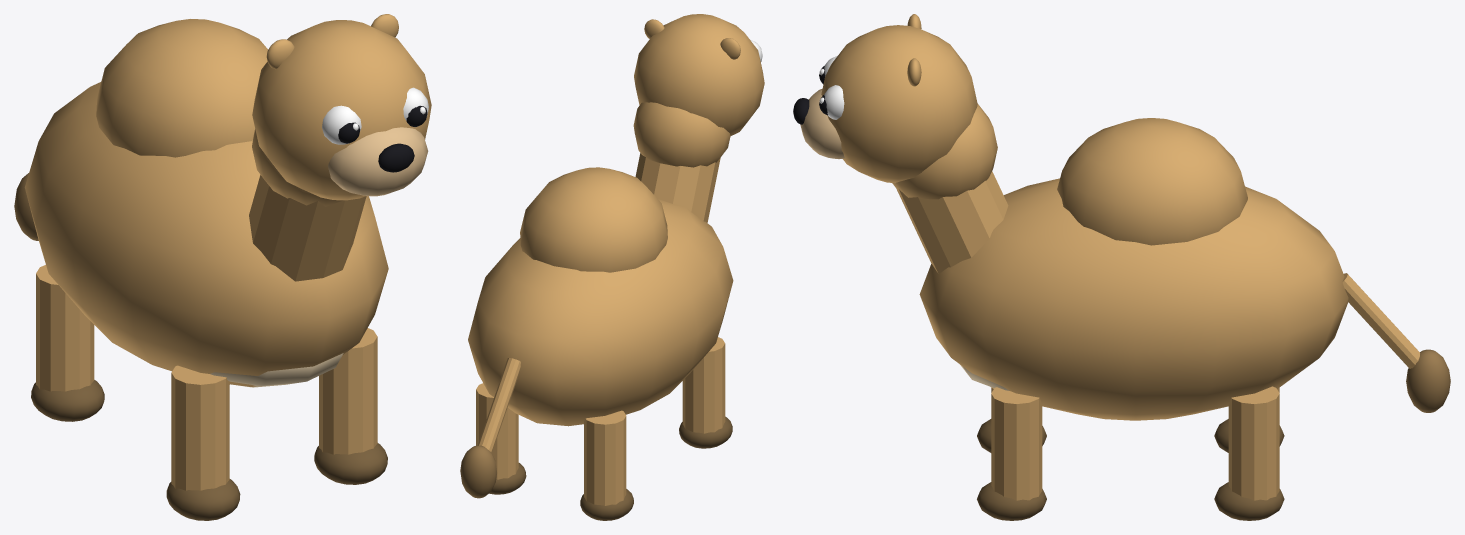
The picture shows the model from 3 angles, left to right: view 1: azimuth 30°, elevation 25°; view 2: azimuth 150°, elevation 25°; view 3: azimuth 270°, elevation 25°; orthographic projection. The views are drawn at different scales.
Visible parts, largest first — view 1: Camel; view 2: Camel; view 3: Camel.
Part boxes in pixels (x1,y1,x2,y2): Camel: (14,14,431,520); Camel: (460,14,764,520); Camel: (793,14,1450,520).
Size of the model in its own units: 1.7 by 3.12 by 4.11.
1 material, 1 textured.
